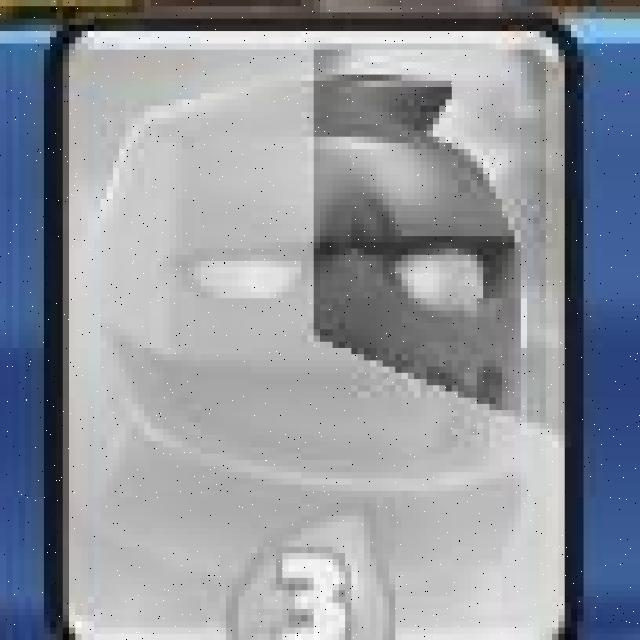Elixir_Golem: (48, 21, 586, 640)
